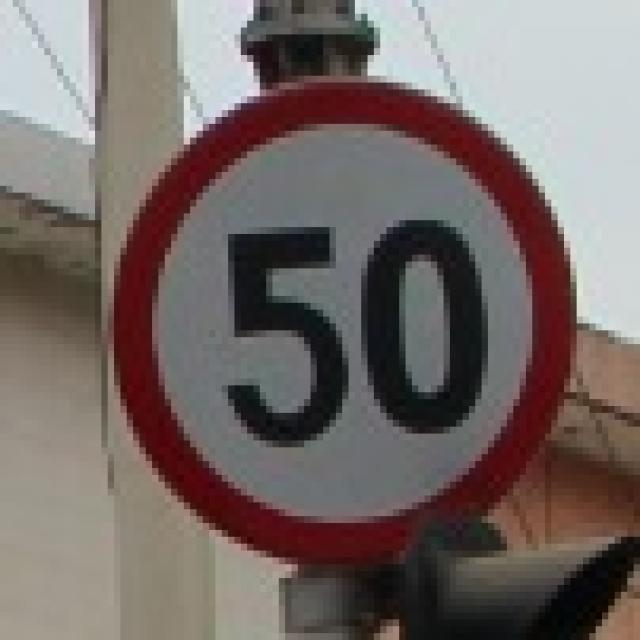Speed Limit -50-: (216, 205, 489, 444)
